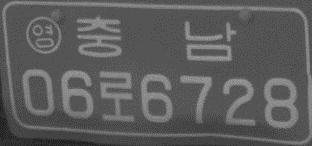0: (21, 67, 54, 118)
2: (222, 77, 257, 126)
6: (139, 73, 174, 124), (60, 69, 94, 119)
7: (179, 74, 212, 124)
8: (262, 76, 298, 129)
로: (98, 70, 136, 122)
영: (25, 16, 62, 55)
충남_D: (75, 14, 236, 61)
